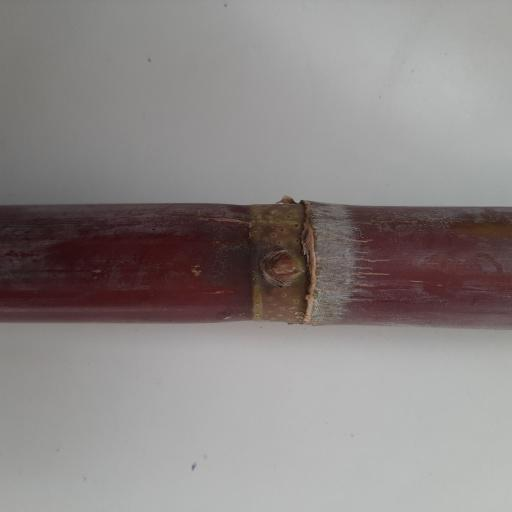Bud: (258, 246, 305, 286)
